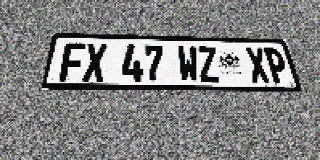4: (122, 44, 143, 82)
7: (144, 45, 165, 82)
F: (59, 43, 86, 81)
P: (263, 48, 290, 83)
W: (177, 46, 200, 82)
X: (82, 43, 107, 82), (245, 47, 271, 83)
Z: (197, 46, 220, 83)
